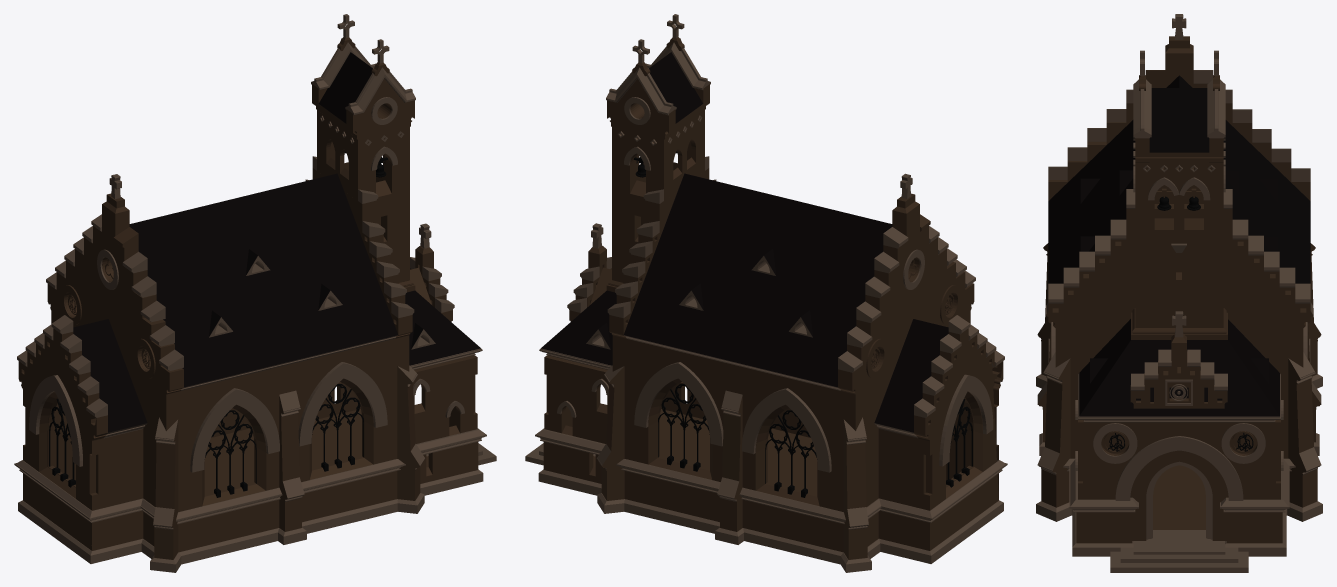
File: church.FBX
The picture shows the model from 3 angles, left to right: view 1: azimuth 30°, elevation 25°; view 2: azimuth 150°, elevation 25°; view 3: azimuth 270°, elevation 25°; orthographic projection. The views are drawn at different scales.
Visible parts, largest first — view 1: Shape05, Shape09, Shape04, Shape38, Shape36, Shape17, Loft04, Loft02, Shape22, Rectangle3, Rectangle0, Shape66 (+18 smaller); view 2: Shape05, Shape06, Shape04, Shape38, Shape36, Shape18, Loft04, Loft02, Shape07, Rectangle2, Rectangle0, Shape67 (+18 smaller); view 3: Shape03, Shape05, Shape12, Line05, Shape20, Rectangle1, Shape19, Shape13, Shape64, Shape65, Shape04, Loft04 (+26 smaller).
Part boxes in pixels (bbox=[...]): Shape05: bbox=[129, 173, 397, 390]; Shape09: bbox=[160, 335, 409, 552]; Shape04: bbox=[47, 193, 183, 546]; Shape38: bbox=[53, 319, 147, 547]; Shape36: bbox=[18, 328, 102, 550]; Shape17: bbox=[346, 79, 414, 282]; Loft04: bbox=[18, 469, 483, 572]; Loft02: bbox=[14, 428, 486, 524]; Shape22: bbox=[190, 362, 387, 472]; Rectangle3: bbox=[413, 358, 464, 483]; Rectangle0: bbox=[204, 409, 428, 494]; Shape66: bbox=[153, 417, 178, 559]; Shape05: bbox=[624, 173, 892, 390]; Shape06: bbox=[612, 335, 861, 552]; Shape04: bbox=[838, 193, 974, 546]; Shape38: bbox=[874, 319, 968, 547]; Shape36: bbox=[919, 328, 1003, 550]; Shape18: bbox=[607, 79, 675, 282]; Loft04: bbox=[538, 469, 1003, 572]; Loft02: bbox=[535, 428, 1007, 524]; Shape07: bbox=[634, 362, 831, 472]; Rectangle2: bbox=[557, 358, 608, 483]; Rectangle0: bbox=[593, 409, 817, 494]; Shape67: bbox=[843, 417, 868, 559]; Shape03: bbox=[1048, 204, 1310, 458]; Shape05: bbox=[1048, 75, 1310, 283]; Shape12: bbox=[1076, 420, 1282, 543]; Line05: bbox=[1079, 319, 1279, 416]; Shape20: bbox=[1145, 162, 1212, 327]; Rectangle1: bbox=[1110, 530, 1248, 572]; Shape19: bbox=[1149, 88, 1209, 167]; Shape13: bbox=[1078, 419, 1280, 540]; Shape64: bbox=[1288, 352, 1321, 507]; Shape65: bbox=[1037, 352, 1070, 507]; Shape04: bbox=[1048, 36, 1310, 200]; Loft04: bbox=[1036, 374, 1322, 556].
Size of the model in its own units: 596 by 600 by 333.
